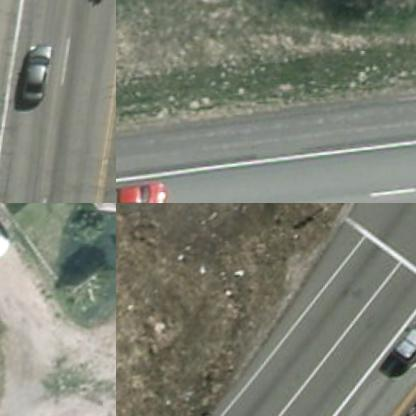car: (23, 46, 56, 109), (116, 174, 173, 202), (395, 296, 415, 374), (0, 203, 20, 267)
motorcycle: (88, 0, 115, 13)
